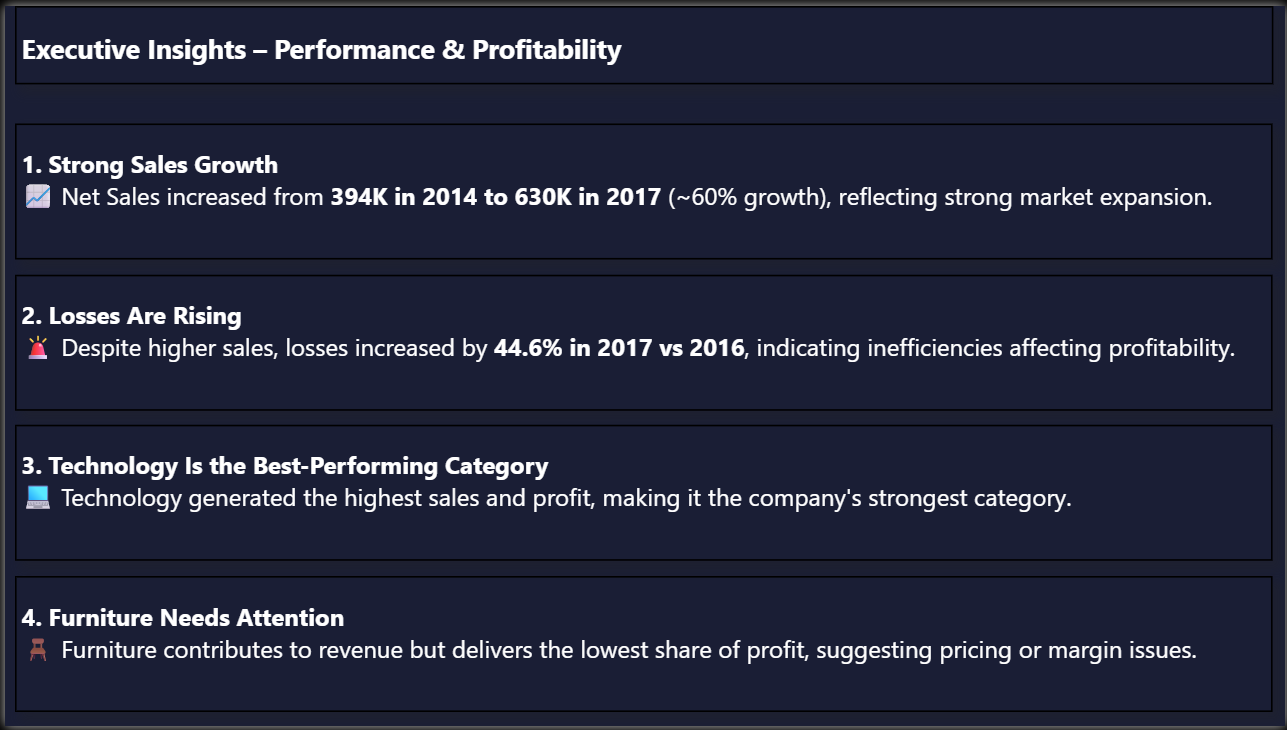

Layout of this report page (visuals, bound fields, positions):
{"tool":"powerbi","page":{"name":"Performance & Profitability Insights","canvas":[1280,720],"ordinal":6},"visuals":[{"type":"textbox","box":[10,0,1258.8,78.8],"z":0},{"type":"textbox","box":[10,117.5,1257.5,136.2],"z":1000},{"type":"textbox","box":[10,268.3,1257.5,136.2],"z":2000},{"type":"textbox","box":[10,419.2,1257.5,136.2],"z":3000},{"type":"textbox","box":[10,570,1257.5,136.2],"z":4000}]}

Visuals, with their boxes in screenshot pixels (x1, y1, x2, y2), scaled from the page's 1280x720 canvas onto the 1287x730 screenshot:
textbox: x1=10, y1=0, x2=1276, y2=80
textbox: x1=10, y1=119, x2=1274, y2=257
textbox: x1=10, y1=272, x2=1274, y2=410
textbox: x1=10, y1=425, x2=1274, y2=563
textbox: x1=10, y1=578, x2=1274, y2=716
